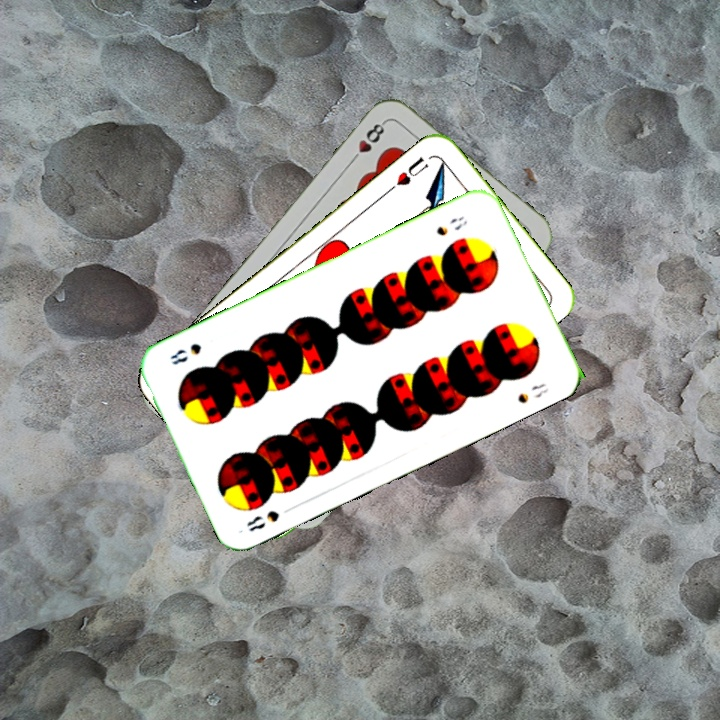H8: (346, 117, 389, 166)
HU: (384, 152, 431, 195)
S8: (242, 506, 282, 535), (432, 212, 470, 239)
